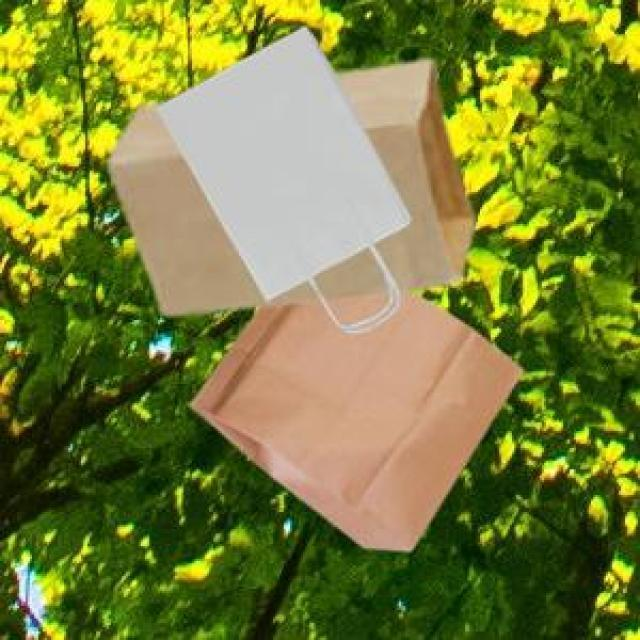paper: (105, 56, 469, 312), (188, 286, 518, 546), (154, 21, 408, 329)
